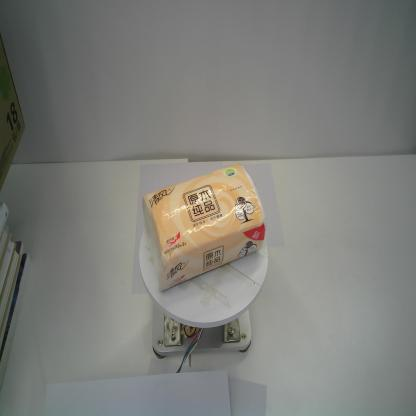Tissue: (142, 161, 266, 292)
